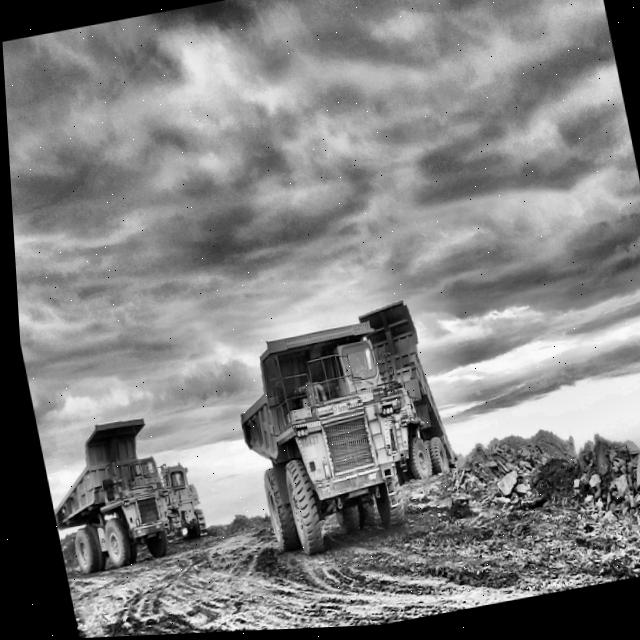buldozerpayloadergrader: (155, 465, 201, 540)
dump_truck: (236, 323, 395, 559), (48, 421, 163, 572), (355, 307, 448, 484)
